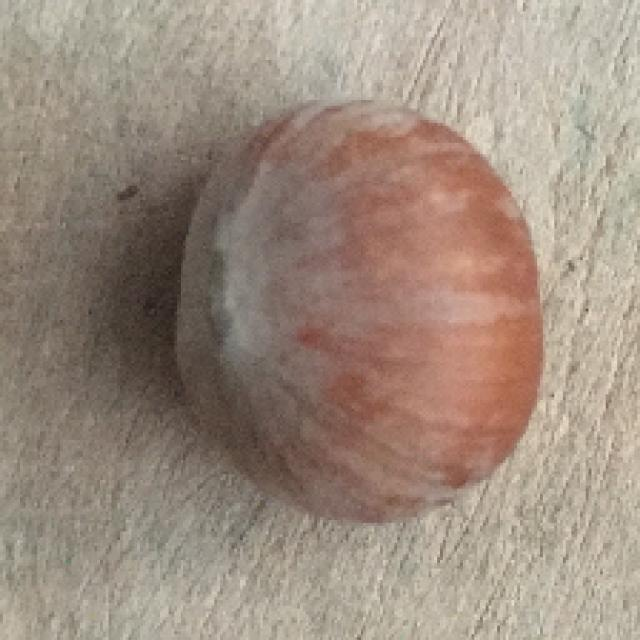qualityHazelnut: (154, 102, 551, 538)
